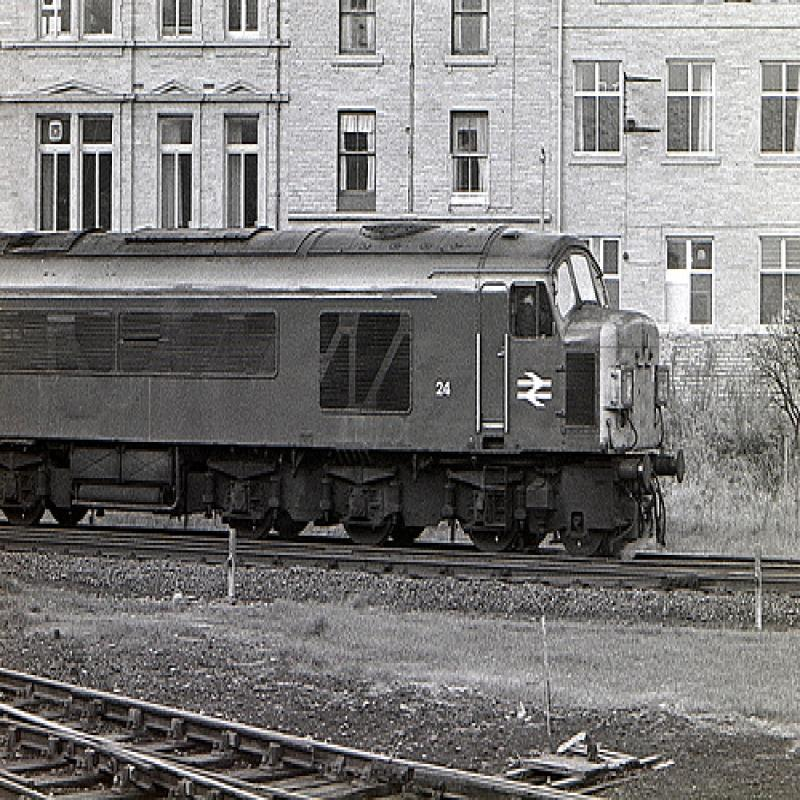train: (1, 217, 684, 554)
